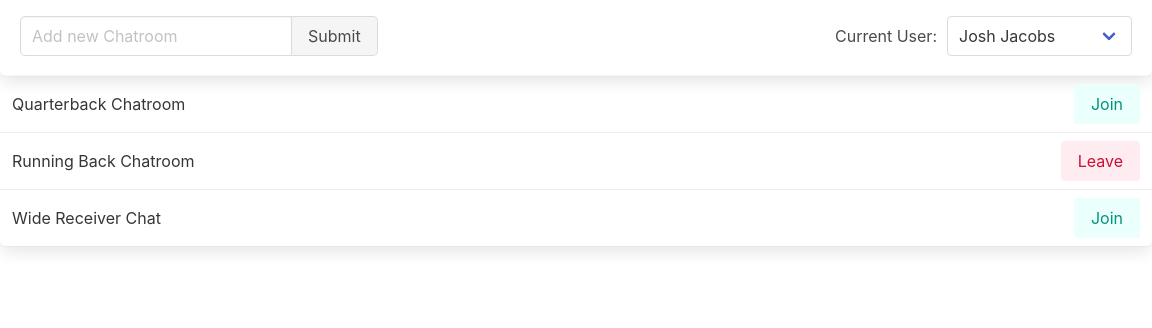
Test case: ChatroomList › adds a new chat
This screenshot has width=1152, height=328.
Type "New Chat" into the field with placeholder "Add new Chatroom" at [156, 36], box [20, 16, 292, 56]
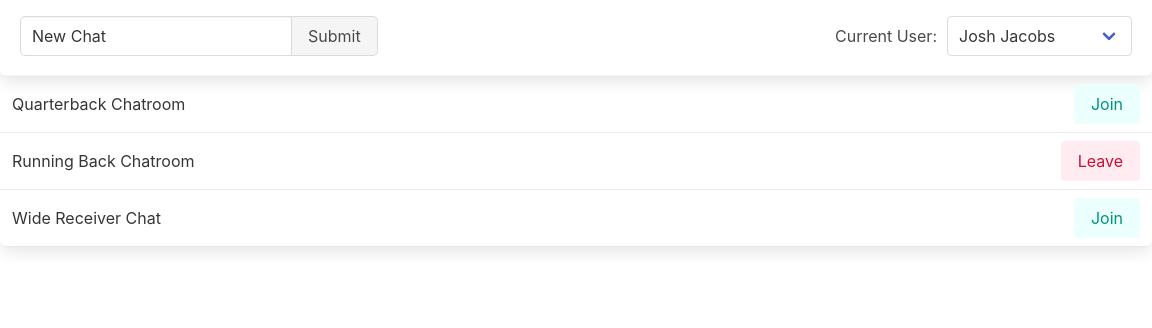
Click the button with id "submit-button" at [335, 36], box [292, 16, 378, 56]
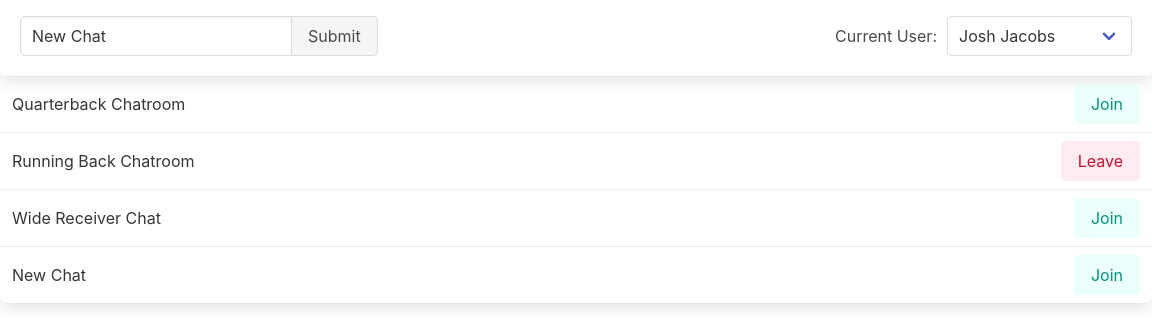
Expected: the number of elements with class "chatroom-elem" is 4, [0, 76, 1151, 133]; [0, 133, 1151, 190]; [0, 190, 1151, 247]; [0, 247, 1151, 303]
